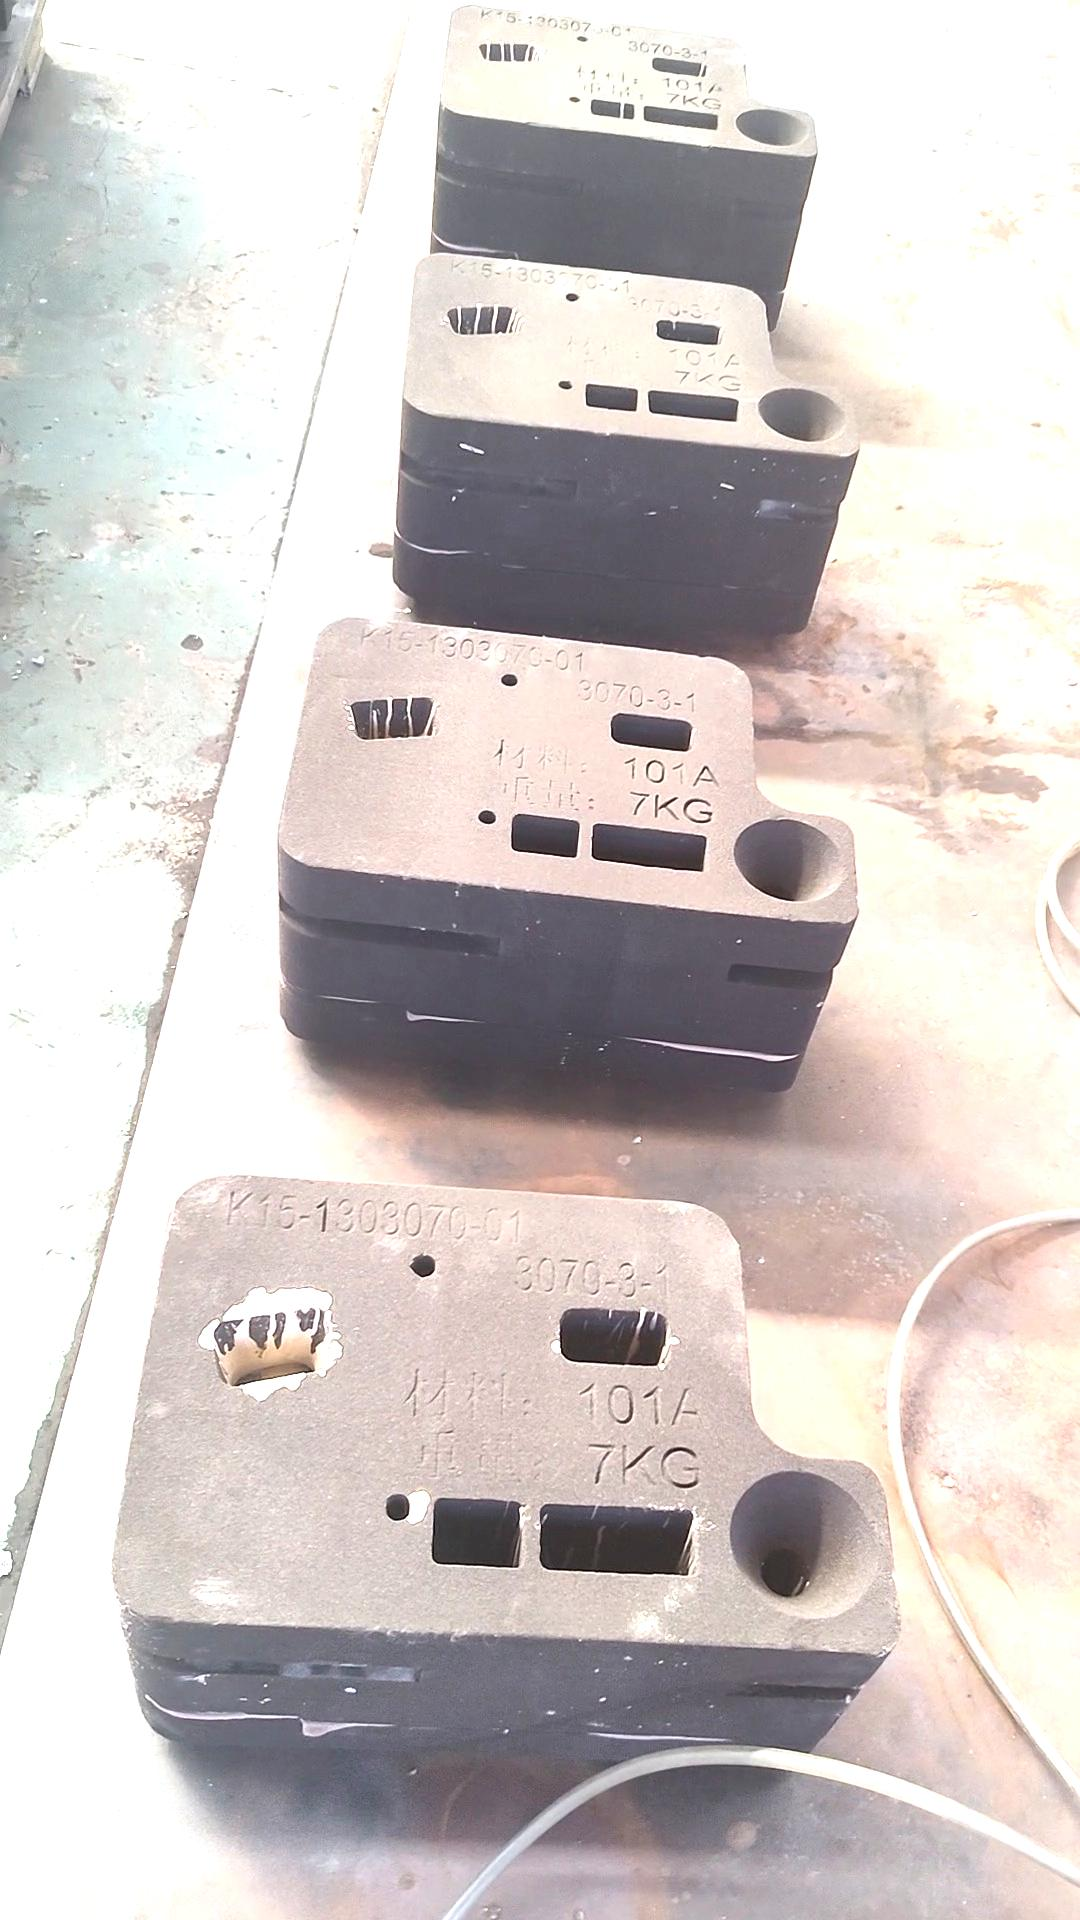pouring hole: (727, 1468, 880, 1622), (732, 815, 847, 905), (758, 386, 849, 444), (736, 108, 810, 146)
